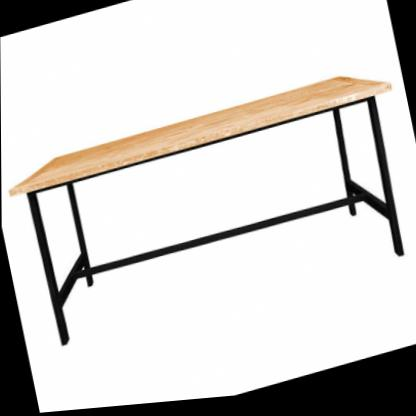Table: (0, 47, 416, 371)
